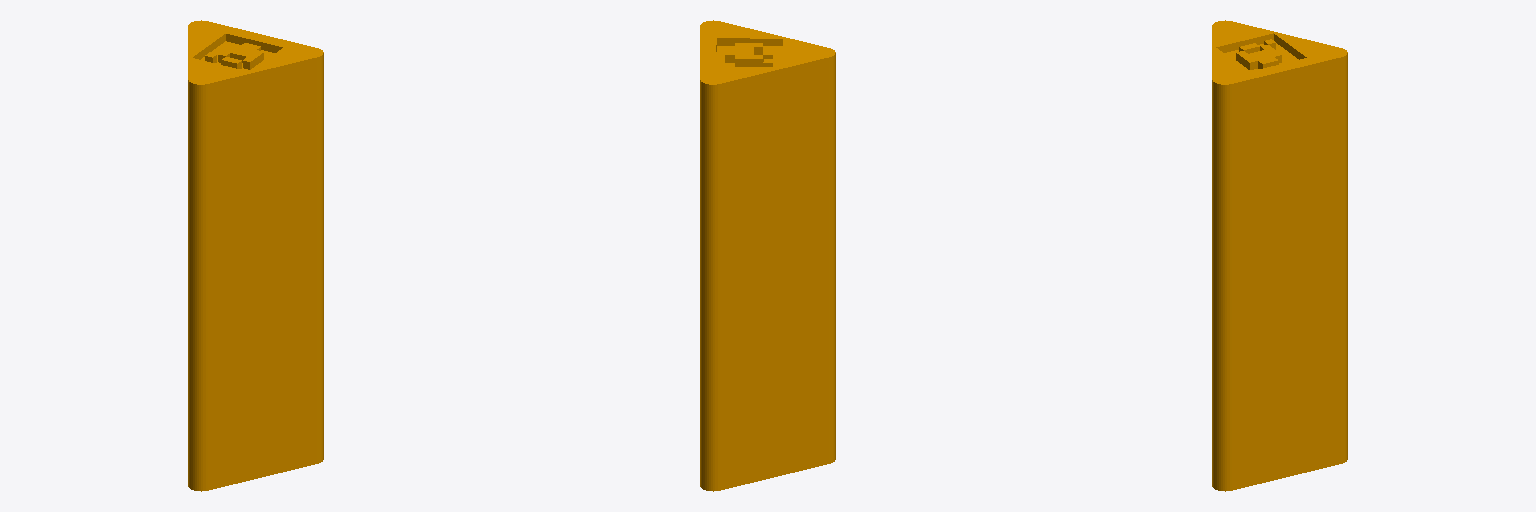
The robot description file, URDF, robot "40x40_Triangle":
<?xml version="1.0" ?>
<robot name="40x40_Triangle">

    <link name="40x40_Triangle">
        <visual>
            <origin rpy="1.5707963267948966 0 1.5707963" xyz="-0.0025 0 -0.0"/>
            <geometry>
                <mesh filename="Shapes/40x40_triangle.obj" scale="1 1 1"/>
            </geometry>
        </visual>
        <collision>
            <origin rpy="1.5707963267948966 0 0" xyz="-0.0025 0 -0.0"/>
            <geometry>
                <mesh filename="Shapes/40x40_triangle.obj" scale="1 1 1"/>
            </geometry>
        </collision>
        <inertial>
            <mass value="0.3"/>
            <inertia ixx="0.000029435425" ixy="0.0" ixz="0.0" iyy="0.000029435425" iyz="0.0" izz="0.00000725805"/>
        </inertial>
    </link>

</robot>

--- What the picture shows (computed from the rendered views, not written in the file) ---
3 views of the same robot in one strip: view 1: azimuth 30°, elevation 25°; view 2: azimuth 150°, elevation 25°; view 3: azimuth 270°, elevation 25° (orthographic).
Robot: 40x40_Triangle — 1 links, 0 joints (none); root link 40x40_Triangle; default pose: all joints at 0.
Visible links, largest first — view 1: 40x40_Triangle; view 2: 40x40_Triangle; view 3: 40x40_Triangle.
Link boxes in pixels (left/top/right/bottom): 40x40_Triangle: left=188, top=20, right=323, bottom=491; 40x40_Triangle: left=700, top=20, right=835, bottom=491; 40x40_Triangle: left=1212, top=20, right=1347, bottom=491.
Size in the robot's own frame: 0.0356 by 0.0316 by 0.105 metres.
Meshes: 1 distinct files referenced, 1 mesh visuals loaded (1 OBJ).
